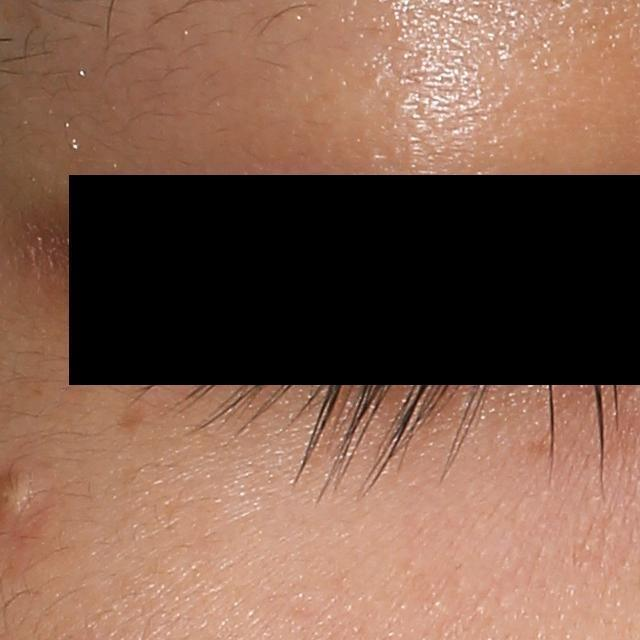melasma: (118, 458, 170, 503), (509, 433, 559, 464), (114, 407, 150, 438)
